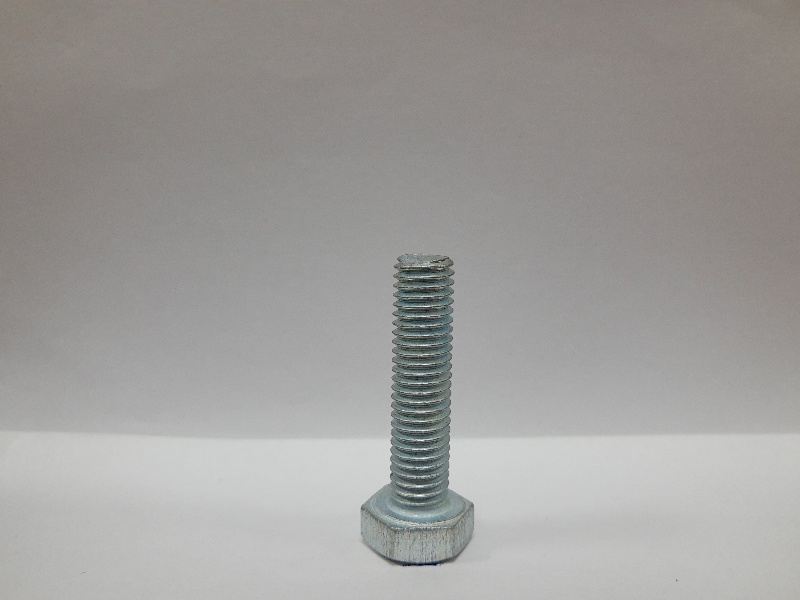pf: (356, 247, 485, 573)
